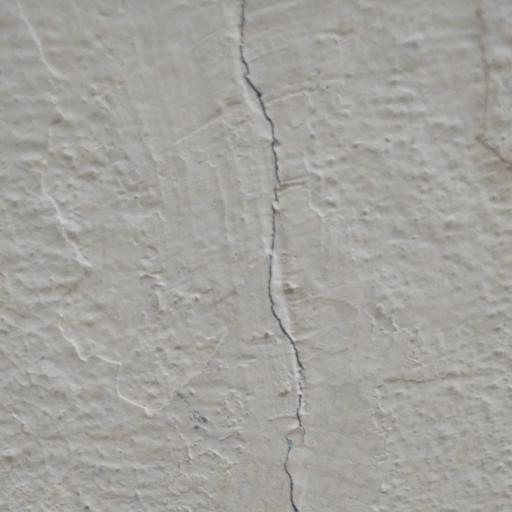minor_crack: (224, 0, 326, 512)
